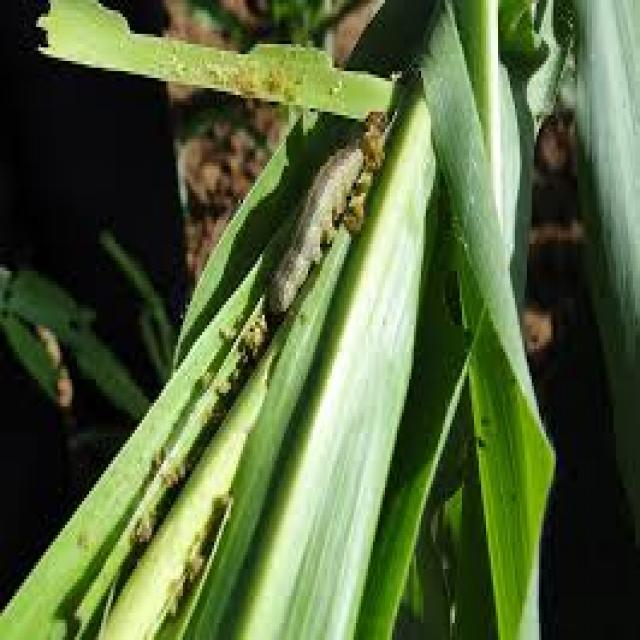armyworm: (259, 117, 390, 324)
